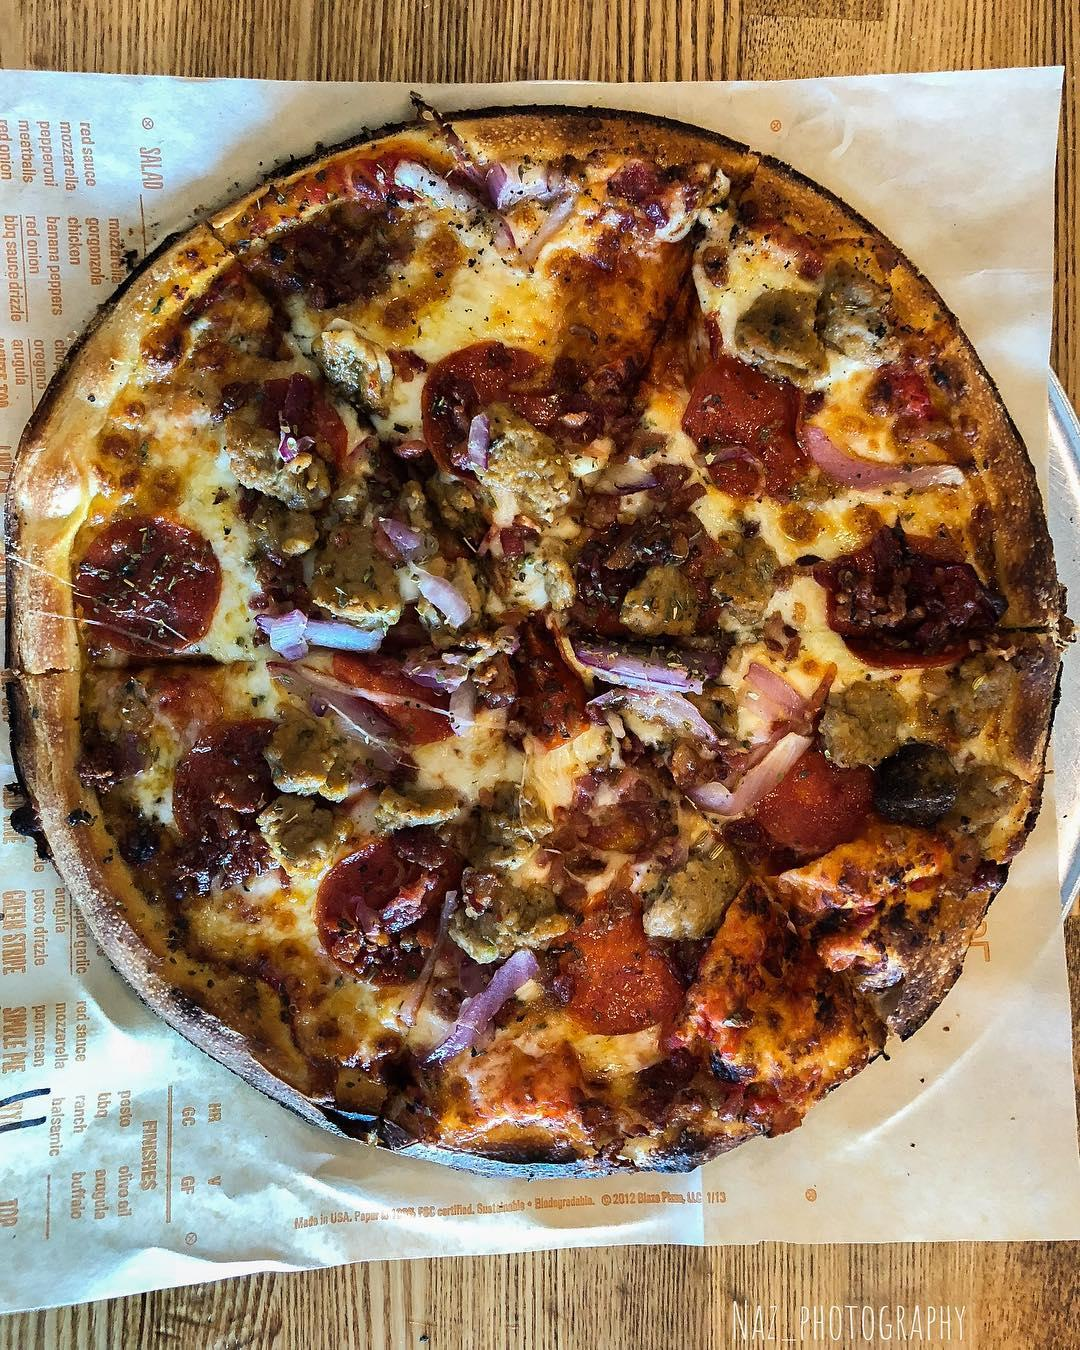Chicken: (572, 897, 684, 1029)
Onion: (579, 641, 710, 739), (798, 419, 970, 489), (439, 949, 534, 1057), (393, 159, 576, 205), (256, 609, 385, 658)
Pepperoni: (679, 356, 813, 501), (421, 337, 553, 476), (82, 520, 213, 649), (321, 849, 422, 983), (755, 750, 874, 861), (173, 722, 277, 839), (260, 381, 346, 476)
